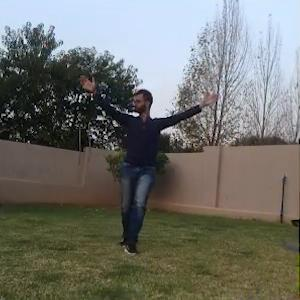takeoff: (70, 63, 218, 249)
